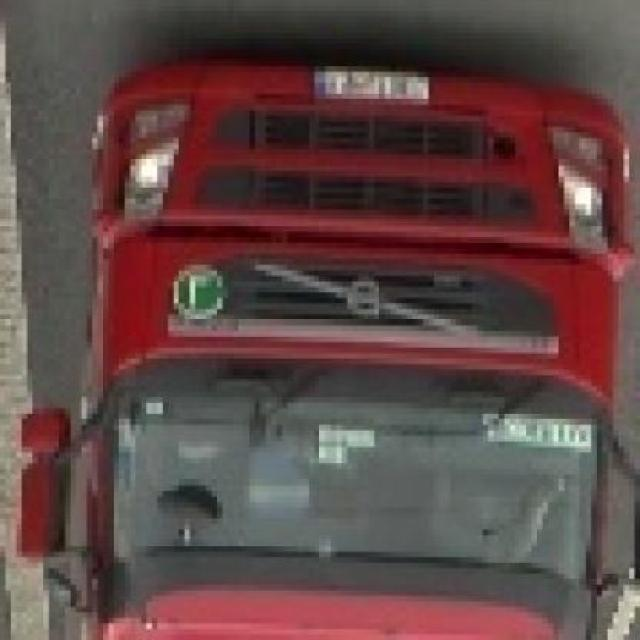truck: (23, 61, 640, 640)
